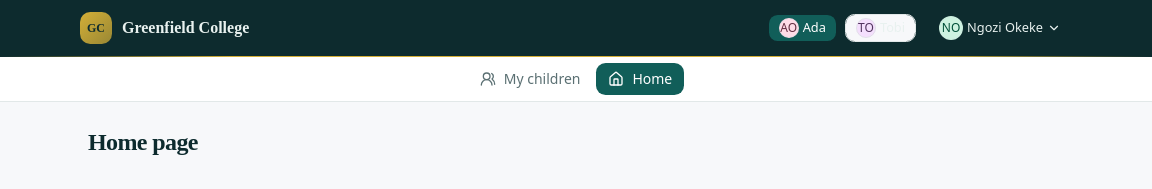
Scenario: PortalShell on a desktop › shows no school section with one school
Expected: the header is shown, [0,0,1151,57]
Click the button "NO Ngozi Okeke". click: {"x": 1000, "y": 28}
box: [928,14,1072,42]
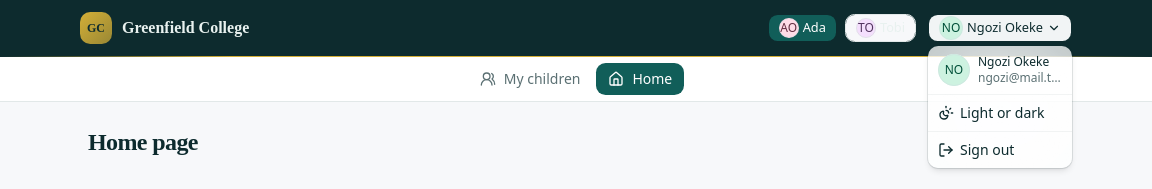
Expected: the menu item "Sign out" is shown, [938,140,1014,159]
